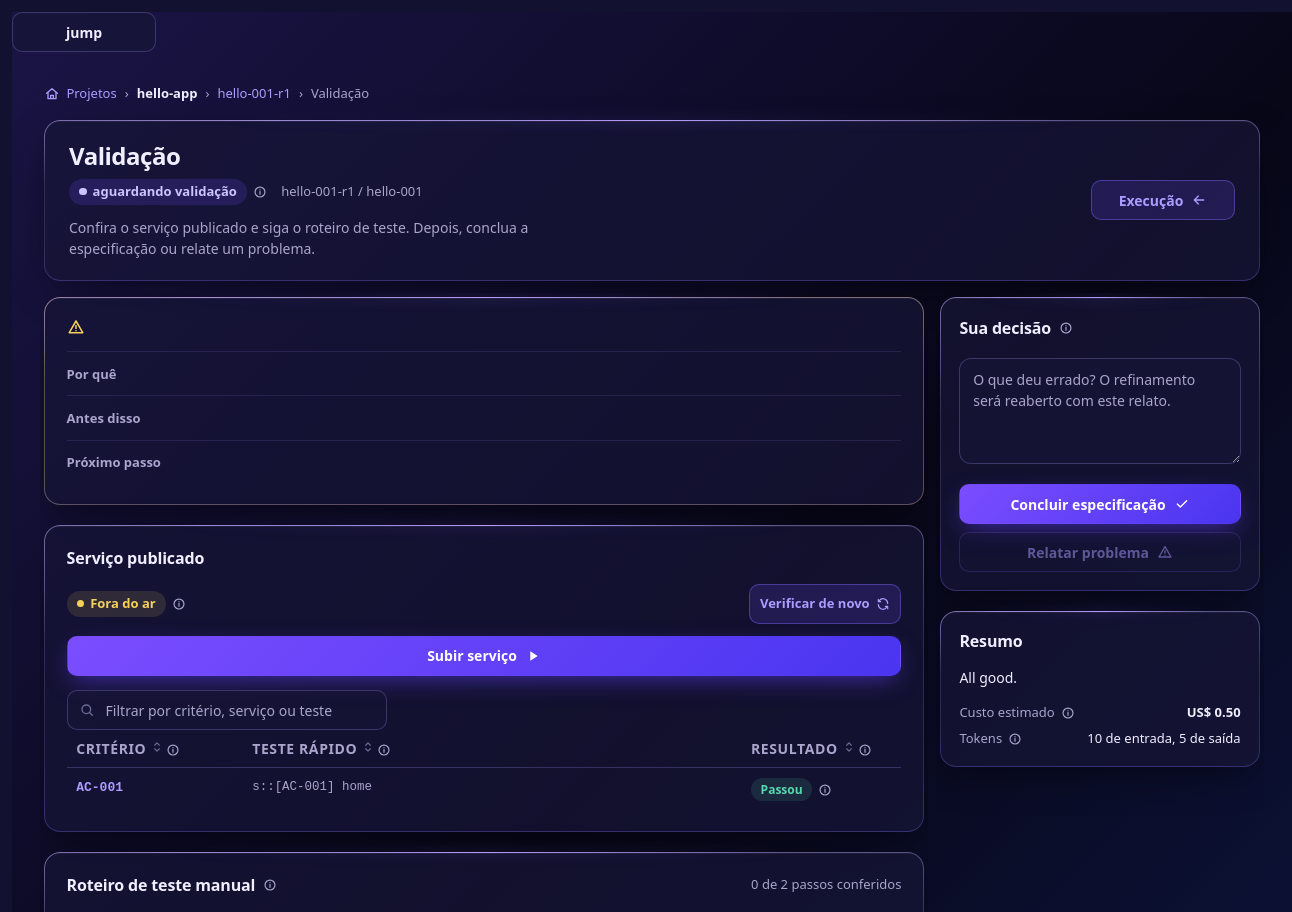
Scenario: ValidationPage › after Complete spec › follows the completion run itself and stops polling with its failure when it ends phase-failed
Click the button with test id "complete-spec" at {"x": 1100, "y": 504}, box [959,484,1241,524]
Wait 65000 ms
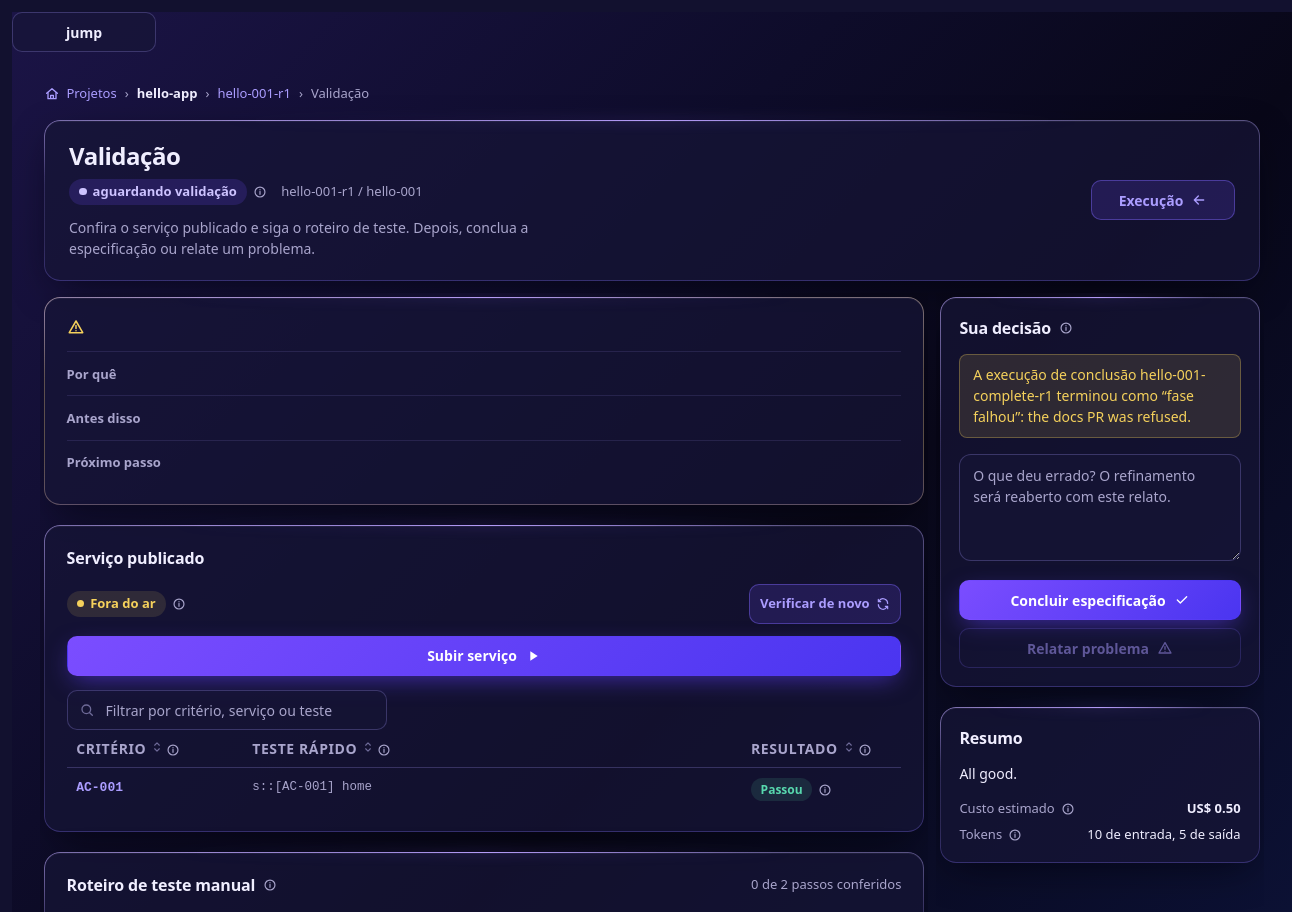
Expected: the text with test id "action-error" shows "hello-001-complete-r1", [973,365,1205,426]
Expected: the text with test id "action-error" shows "fase falhou", [973,365,1205,426]
Expected: the text with test id "action-error" shows "the docs PR was refused", [973,365,1205,426]
